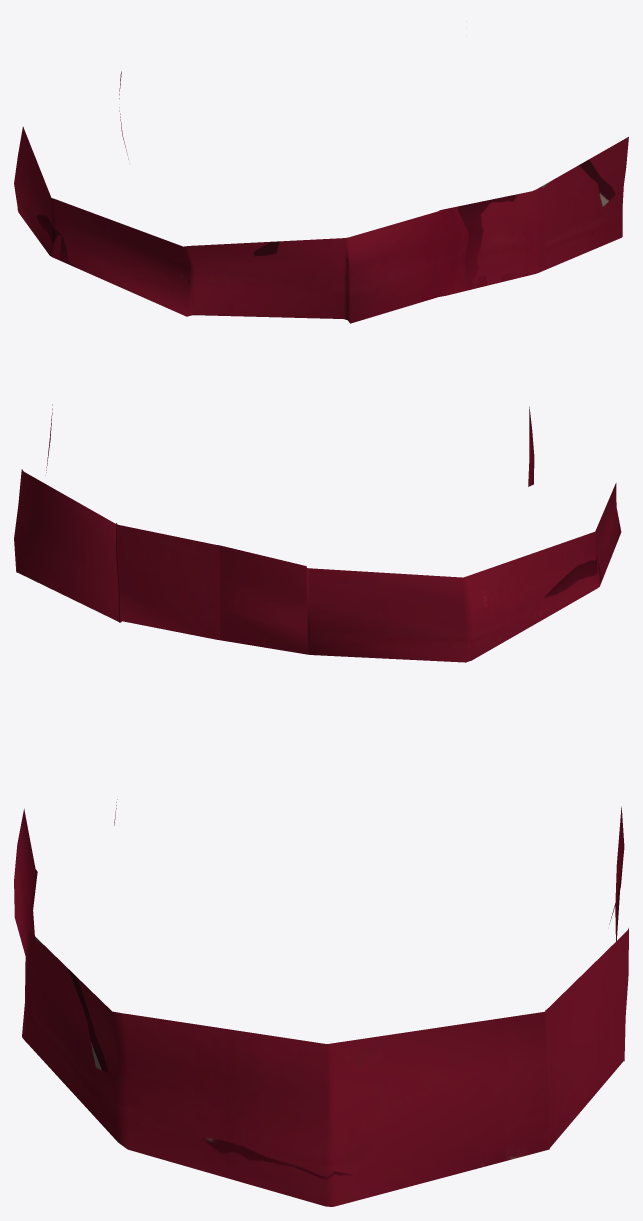
3 renders of one model, top to bottom at view 1: azimuth 30°, elevation 25°; view 2: azimuth 150°, elevation 25°; view 3: azimuth 270°, elevation 25°, orthographic. The views are drawn at different scales.
Parts seen in each view (by area): view 1: geometry_0; view 2: geometry_0; view 3: geometry_0.
Boxes of the visible parts, left/top/right/bottom form: geometry_0: left=14, top=71, right=628, bottom=323; geometry_0: left=14, top=404, right=621, bottom=662; geometry_0: left=14, top=799, right=628, bottom=1206.
Size of the model in its own units: 0.4031 by 0.0843 by 0.2917.
1 material, 1 textured.
